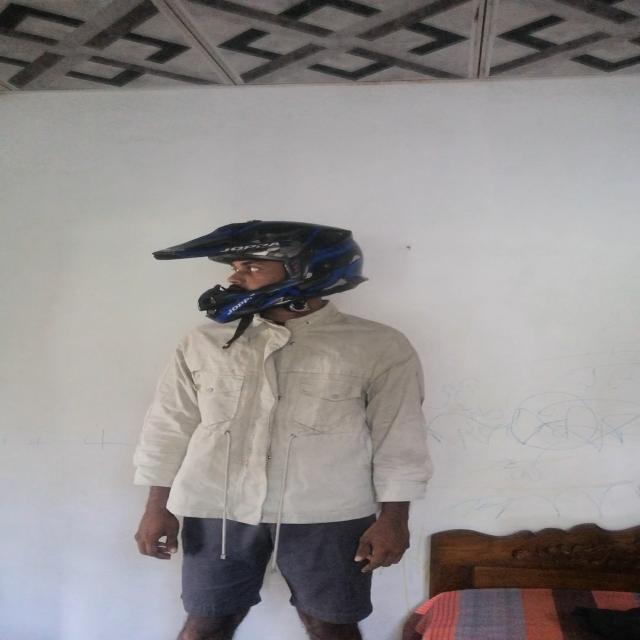Helmet_Wearer: (162, 215, 388, 325)
Jacket_Wearer: (143, 306, 444, 533)
Person: (132, 222, 441, 634)
